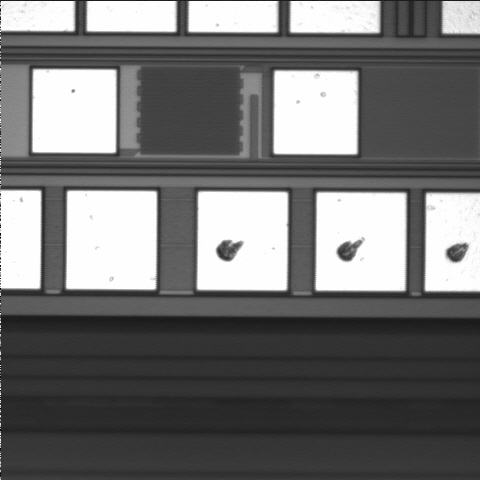pad: (66, 191, 157, 289), (197, 192, 288, 290), (316, 193, 406, 291), (33, 69, 116, 153), (274, 71, 358, 154)
